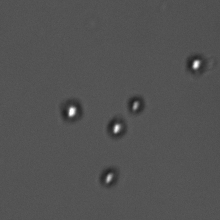Living Cell: (57, 98, 83, 126), (182, 52, 207, 76), (105, 116, 127, 141), (99, 163, 119, 190), (128, 90, 144, 112)
